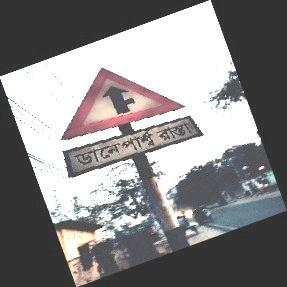Side-road-right: (62, 67, 205, 185)
